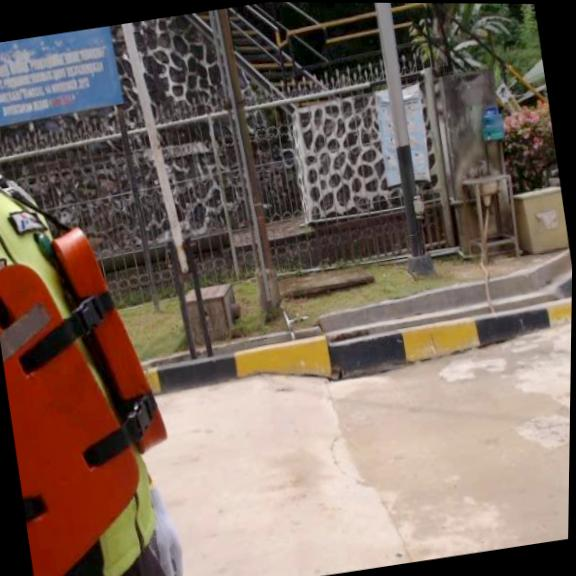safety_vest: (0, 213, 198, 576)
